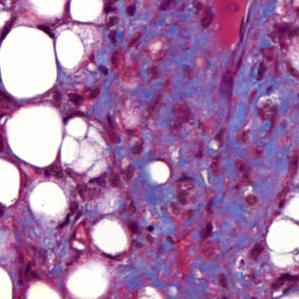steatosis: (57, 30, 89, 74)
